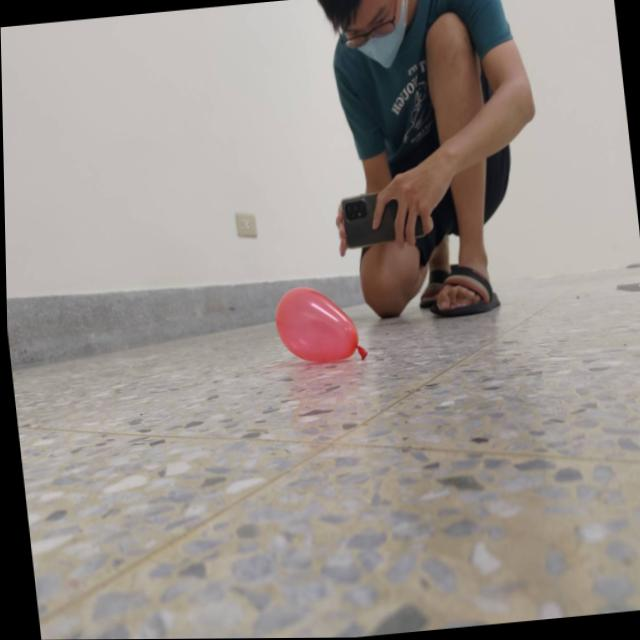red: (268, 280, 367, 370)
